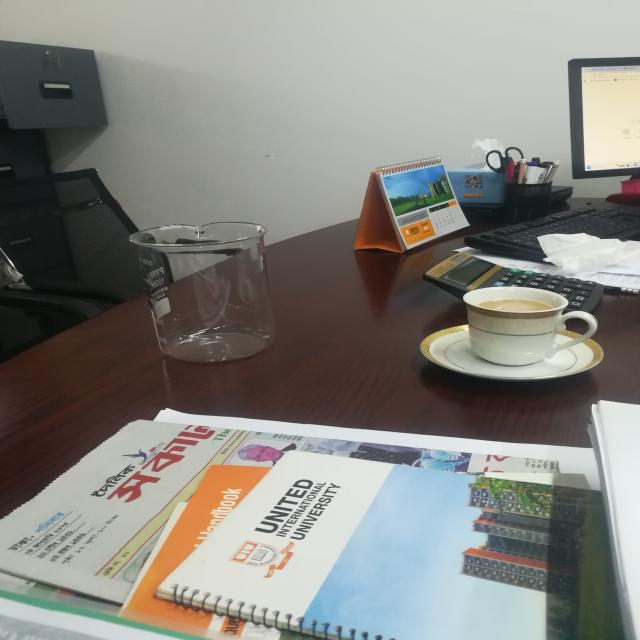Beaker: (102, 183, 314, 386)
